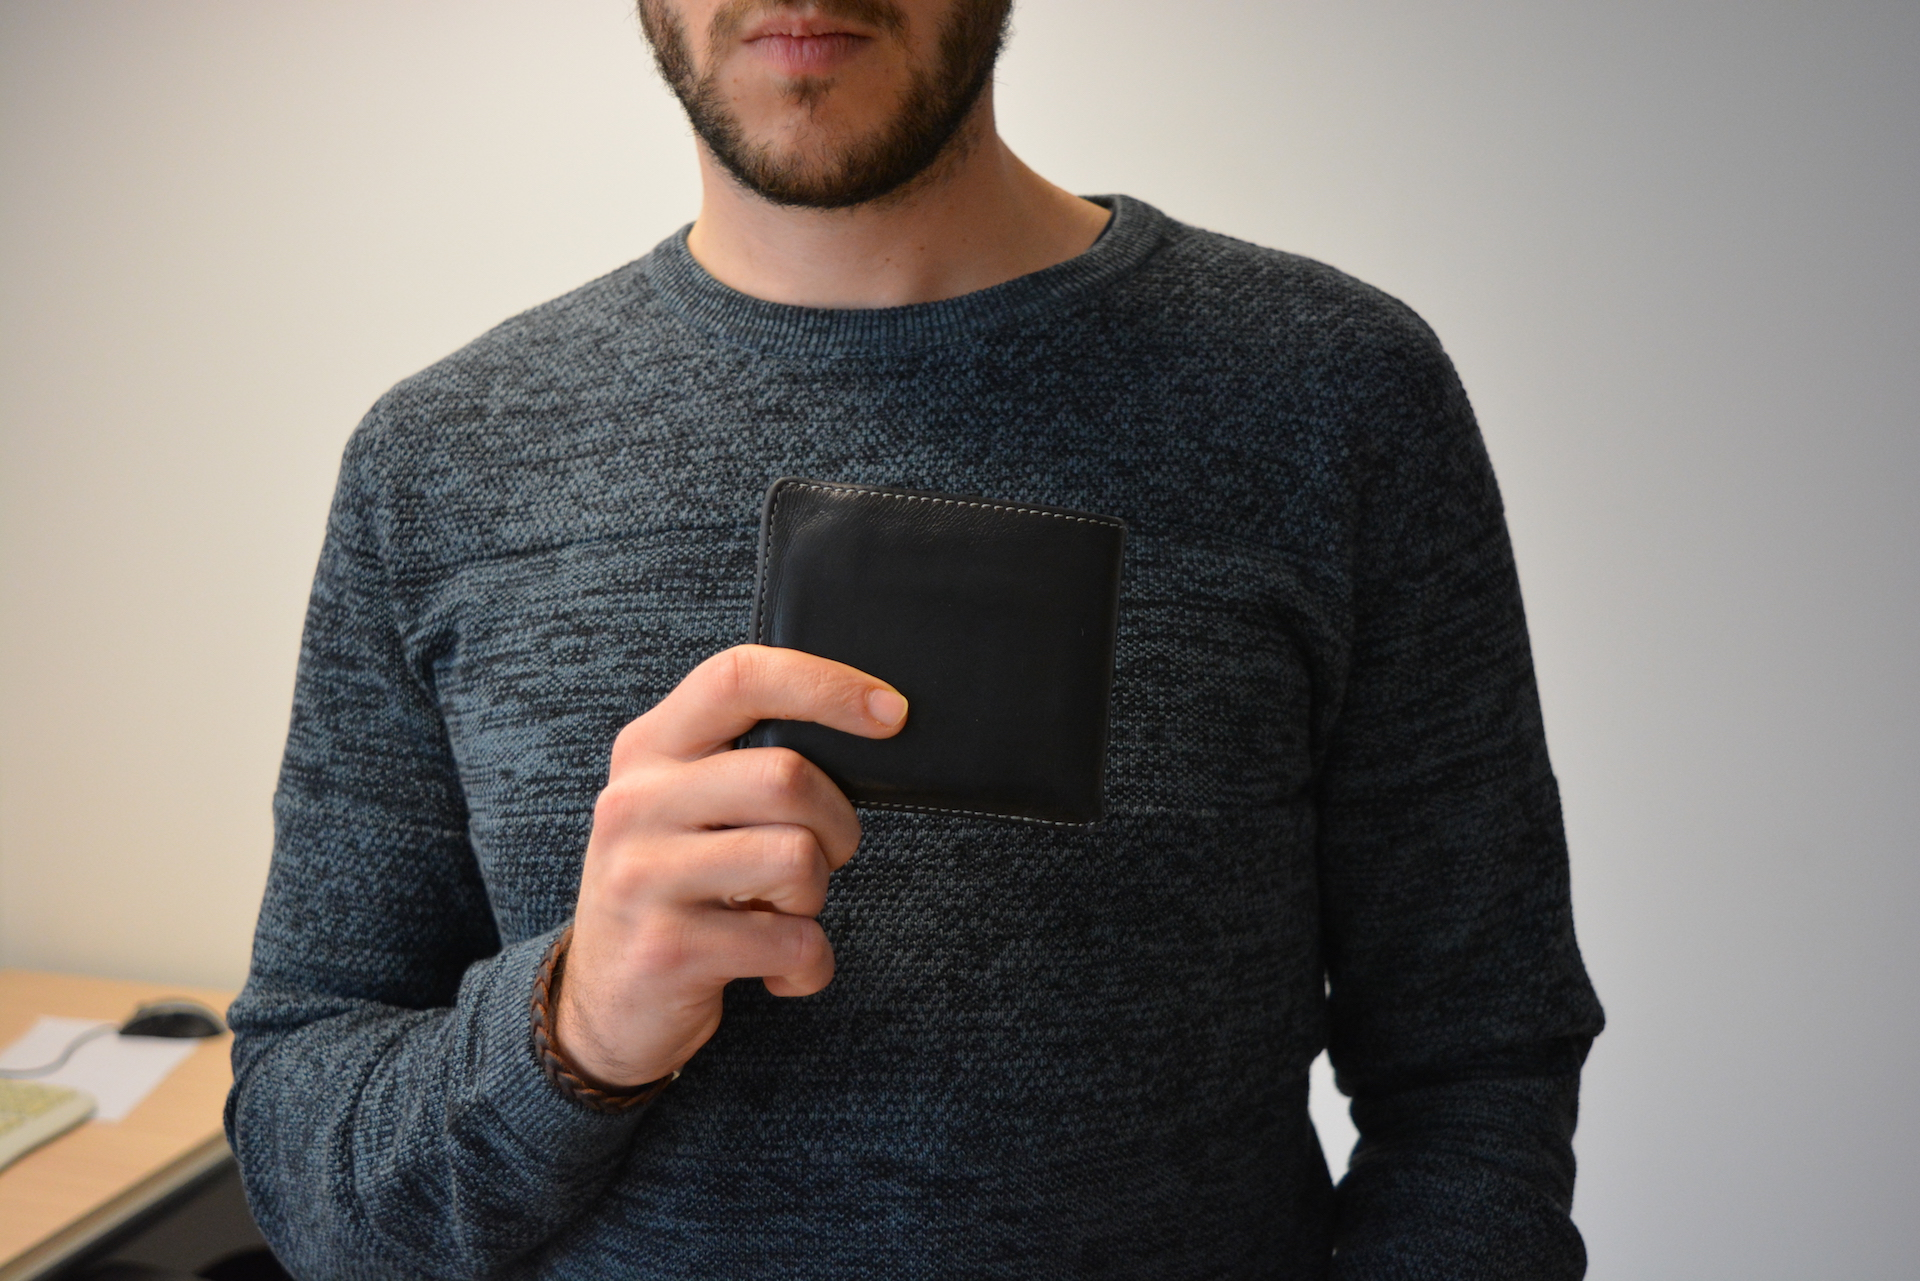monedero: (728, 475, 1129, 834)
